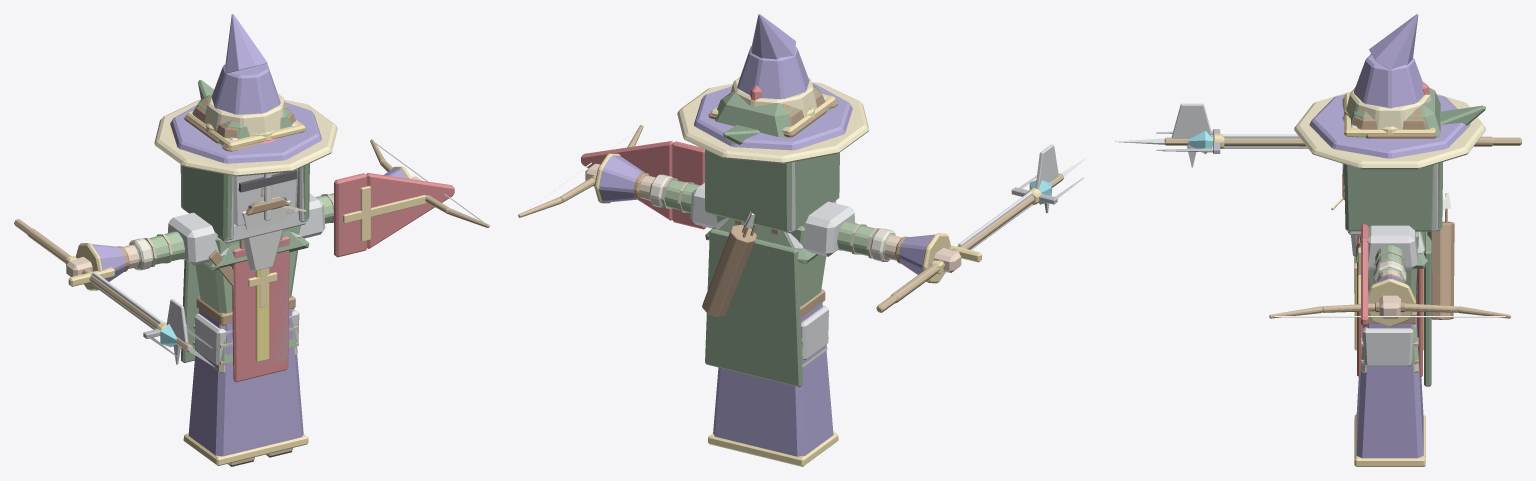
The model's file is medieval-characters-pack.glb.
The picture shows the model from 3 angles, left to right: view 1: azimuth 30°, elevation 25°; view 2: azimuth 150°, elevation 25°; view 3: azimuth 270°, elevation 25°; orthographic projection. The views are drawn at different scales.
Visible parts, largest first — view 1: Wizard, Knight, Archer, Farmer, TownGuard; view 2: Archer, Wizard, Knight, Farmer, TownGuard; view 3: Wizard, Archer, Farmer, Knight, TownGuard.
Boxes of the visible parts, x1,y1,x2,y2 form: Wizard: (27,14,411,465); Knight: (66,111,454,382); Archer: (66,80,489,466); Farmer: (23,94,337,356); TownGuard: (14,165,333,373); Archer: (518,85,961,387); Wizard: (594,14,1052,466); Knight: (581,85,1032,360); Farmer: (649,77,1083,304); TownGuard: (661,144,1086,367); Wizard: (1187,14,1493,466); Archer: (1269,87,1510,386); Farmer: (1156,87,1501,303); Knight: (1212,82,1435,377); TownGuard: (1115,103,1521,372).
Size of the model in its own units: 2.41 by 2.55 by 2.16.
